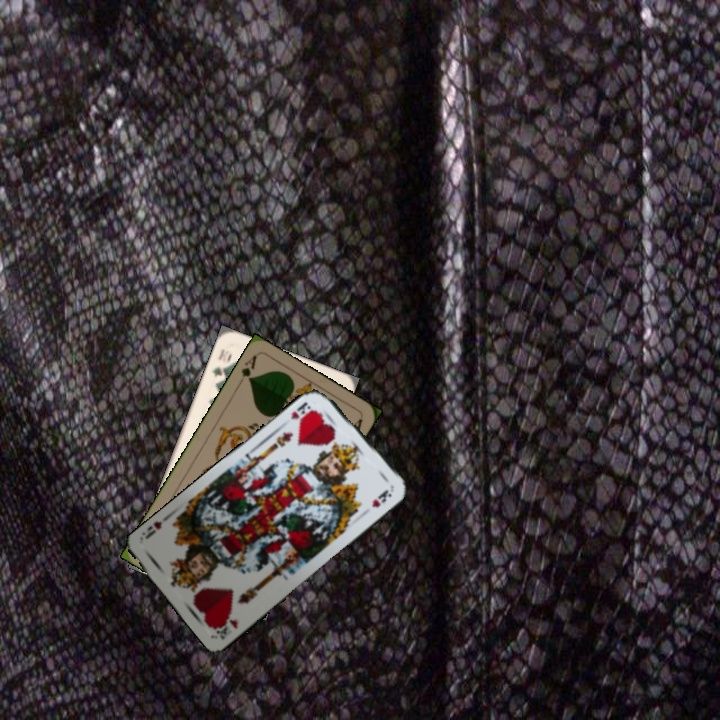G10: (208, 345, 230, 379)
GA: (233, 351, 260, 389)
HK: (212, 613, 241, 641), (287, 398, 313, 422)
